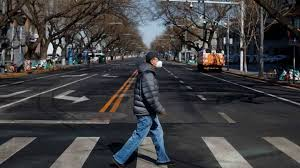mask: (145, 52, 160, 68)
